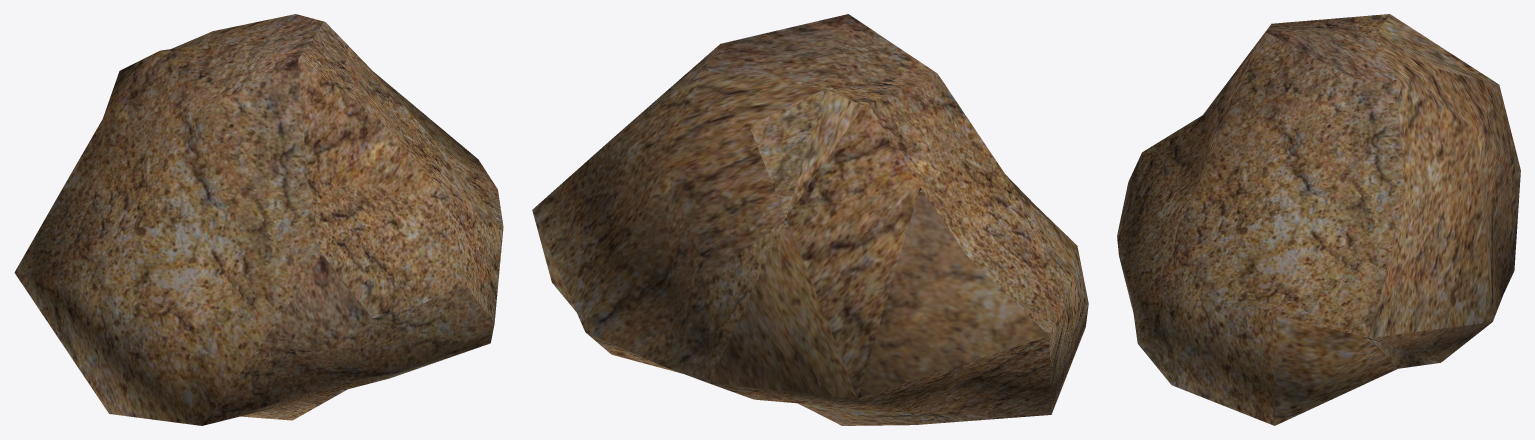
Rendered from rock.fbx.
3 views of the same model, side by side, from view 1: azimuth 30°, elevation 25°; view 2: azimuth 150°, elevation 25°; view 3: azimuth 270°, elevation 25° (orthographic). The views are drawn at different scales.
Parts seen in each view (by area): view 1: Icosphere; view 2: Icosphere; view 3: Icosphere.
Boxes of the visible parts, x1=… form: Icosphere: x1=14, y1=14, x2=503, y2=425; Icosphere: x1=532, y1=14, x2=1088, y2=425; Icosphere: x1=1117, y1=14, x2=1520, y2=425.
Size of the model in its own units: 3.37 by 2.53 by 2.55.
